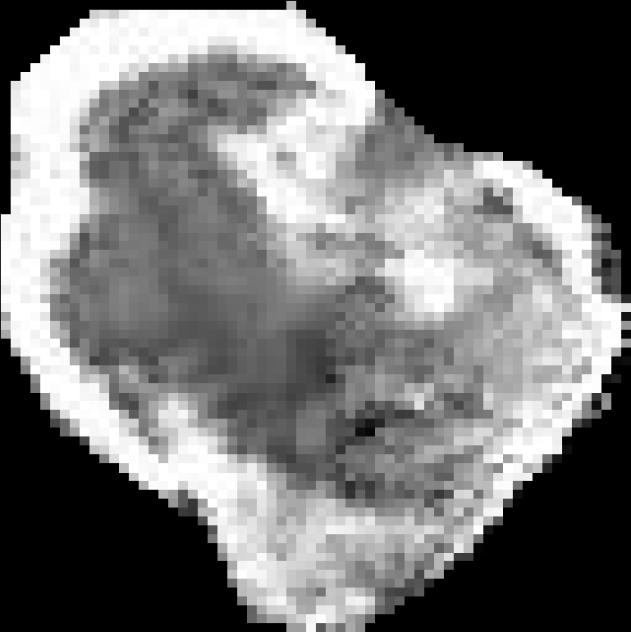tumor_moderate_chance: (1, 1, 631, 632)
